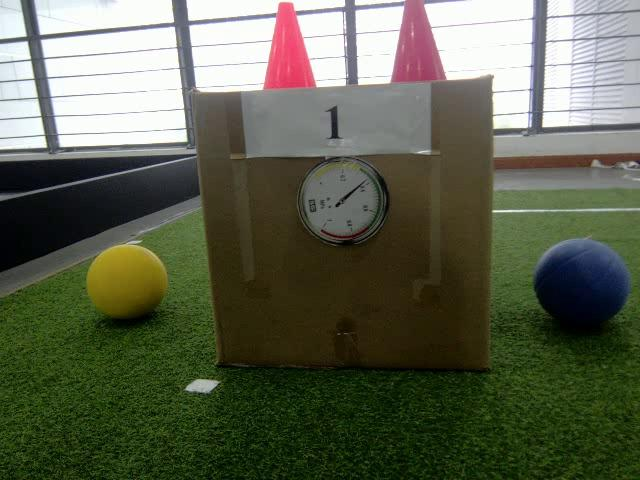1: (318, 104, 344, 143)
Dashboard: (296, 156, 389, 248)
blue_ball: (533, 235, 630, 327)
orange_barrel: (260, 2, 321, 87)
red_barrel: (389, 1, 445, 81)
ssi: (306, 197, 319, 218)
yellow_ball: (85, 244, 167, 321)
